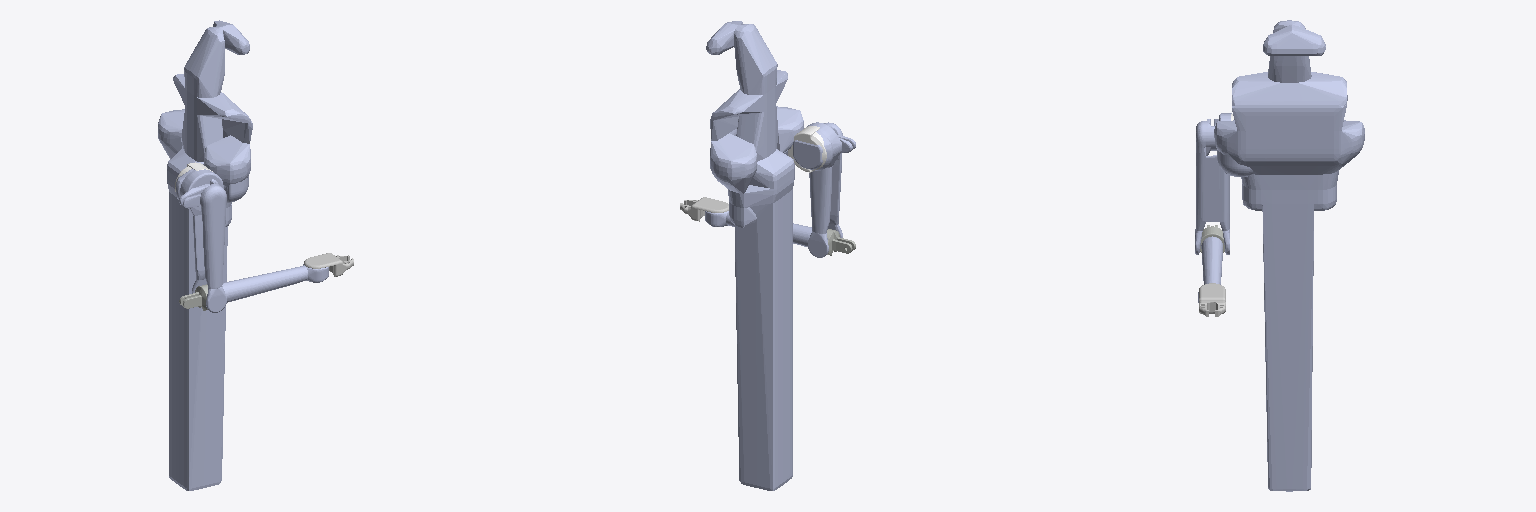
The robot description file, URDF, robot "RobotBimanualV3":
<?xml version="1.0" encoding="utf-8"?>
<!-- This URDF was automatically created by SolidWorks to URDF Exporter! Originally created by [author] ([email redacted]) 
     Commit Version: 1.6.0-4-g7f85cfe  Build Version: 1.6.7995.38578
     For more information, please see http://wiki.ros.org/sw_urdf_exporter -->
<robot
  name="RobotBimanualV3">
  <link
    name="base_link">
    <inertial>
      <origin
        xyz="0.010321 0.00065104 0.5185"
        rpy="0 0 0" />
      <mass
        value="35.545" />
      <inertia
        ixx="1.3259"
        ixy="-1.6443E-06"
        ixz="-0.00012106"
        iyy="1.3119"
        iyz="-1.547E-06"
        izz="0.026428" />
    </inertial>
    <visual>
      <origin
        xyz="0 0 0"
        rpy="0 0 0" />
      <geometry>
        <mesh
          filename="package://RobotBimanualV3/meshes/base_link_coacd.obj" />
      </geometry>
      <material
        name="">
        <color
          rgba="0.79216 0.81961 0.93333 1" />
      </material>
    </visual>
    <collision>
      <origin
        xyz="0 0 0"
        rpy="0 0 0" />
      <geometry>
        <mesh
          filename="package://RobotBimanualV3/meshes/base_link_coacd.obj" />
      </geometry>
    </collision>
  </link>
  <!-- <link
    name="link1">
    <inertial>
      <origin
        xyz="0.00277367 6.161E-05 0.05165334"
        rpy="0 0 0" />
      <mass
        value="0.706" />
      <inertia
        ixx="0.00074611"
        ixy="5.4E-07"
        ixz="5.3E-07"
        iyy="0.00054009"
        iyz="3.26E-06"
        izz="0.00050643" />
    </inertial>
    <visual>
      <origin
        xyz="0 0 0"
        rpy="0 0 0" />
      <geometry>
        <mesh
          filename="package://RobotBimanualV3/meshes/link1_coacd.obj" />
      </geometry>
      <material
        name="">
        <color
          rgba="1 1 1 1" />
      </material>
    </visual>
    <collision>
      <origin
        xyz="0 0 0"
        rpy="0 0 0" />
      <geometry>
        <mesh
          filename="package://RobotBimanualV3/meshes/link1_coacd.obj" />
      </geometry>
    </collision>
  </link>
  <joint
    name="joint1"
    type="revolute">
    <origin
      xyz="0.02 0.1037 0.8358"
      rpy="0 0 0" />
    <parent
      link="base_link" />
    <child
      link="link1" />
    <axis
      xyz="0 0 1" />
    <limit
      lower="0"
      upper="0"
      effort="0"
      velocity="0" />
  </joint>
  <link
    name="link2">
    <inertial>
      <origin
        xyz="-0.00124394 -5.732E-05 0.0545228"
        rpy="0 0 0" />
      <mass
        value="0.659" />
      <inertia
        ixx="0.00064807"
        ixy="8.3E-07"
        ixz="-4.6E-07"
        iyy="0.00045162"
        iyz="-1.01E-06"
        izz="0.00043422" />
    </inertial>
    <visual>
      <origin
        xyz="0 0 0"
        rpy="0 0 0" />
      <geometry>
        <mesh
          filename="package://RobotBimanualV3/meshes/link2_coacd.obj" />
      </geometry>
      <material
        name="">
        <color
          rgba="1 1 1 1" />
      </material>
    </visual>
    <collision>
      <origin
        xyz="0 0 0"
        rpy="0 0 0" />
      <geometry>
        <mesh
          filename="package://RobotBimanualV3/meshes/link2_coacd.obj" />
      </geometry>
    </collision>
  </link>
  <joint
    name="joint2"
    type="revolute">
    <origin
      xyz="-0.020519 0.0080718 0.0528"
      rpy="-1.5708 0 1.5708" />
    <parent
      link="link1" />
    <child
      link="link2" />
    <axis
      xyz="0 0 1" />
    <limit
      lower="0"
      upper="0"
      effort="0"
      velocity="0" />
  </joint>
  <link
    name="link3">
    <inertial>
      <origin
        xyz="-0.03505493 -0.006151 0.05438578"
        rpy="0 0 0" />
      <mass
        value="1.095" />
      <inertia
        ixx="0.00161847"
        ixy="0.00042205"
        ixz="-0.00104433"
        iyy="0.0066165"
        iyz="-0.0001917"
        izz="0.00653551" />
    </inertial>
    <visual>
      <origin
        xyz="0 0 0"
        rpy="0 0 0" />
      <geometry>
        <mesh
          filename="package://RobotBimanualV3/meshes/link3_coacd.obj" />
      </geometry>
      <material
        name="">
        <color
          rgba="0.79216 0.81961 0.93333 1" />
      </material>
    </visual>
    <collision>
      <origin
        xyz="0 0 0"
        rpy="0 0 0" />
      <geometry>
        <mesh
          filename="package://RobotBimanualV3/meshes/link3_coacd.obj" />
      </geometry>
    </collision>
  </link>
  <joint
    name="joint3"
    type="revolute">
    <origin
      xyz="0.014928 0 0.058031"
      rpy="-1.5708 0 -1.5708" />
    <parent
      link="link2" />
    <child
      link="link3" />
    <axis
      xyz="0 0 1" />
    <limit
      lower="0"
      upper="0"
      effort="0"
      velocity="0" />
  </joint>
  <link
    name="link4">
    <inertial>
      <origin
        xyz="-0.00914828 -0.00042727 -7.12E-06"
        rpy="0 0 0" />
      <mass
        value="0.268" />
      <inertia
        ixx="9.136E-05"
        ixy="7E-08"
        ixz="-2E-08"
        iyy="0.00013894"
        iyz="0"
        izz="0.00013031" />
    </inertial>
    <visual>
      <origin
        xyz="0 0 0"
        rpy="0 0 0" />
      <geometry>
        <mesh
          filename="package://RobotBimanualV3/meshes/link4_coacd.obj" />
      </geometry>
      <material
        name="">
        <color
          rgba="0.79216 0.81961 0.93333 1" />
      </material>
    </visual>
    <collision>
      <origin
        xyz="0 0 0"
        rpy="0 0 0" />
      <geometry>
        <mesh
          filename="package://RobotBimanualV3/meshes/link4_coacd.obj" />
      </geometry>
    </collision>
  </link>
  <joint
    name="joint4"
    type="revolute">
    <origin
      xyz="-0.25 0 0.08318"
      rpy="0 0 1.5708" />
    <parent
      link="link3" />
    <child
      link="link4" />
    <axis
      xyz="0 0 1" />
    <limit
      lower="0"
      upper="0"
      effort="0"
      velocity="0" />
  </joint>
  <link
    name="link5">
    <inertial>
      <origin
        xyz="-0.00077608 -1.282E-05 0.20828624"
        rpy="0 0 0" />
      <mass
        value="0.312" />
      <inertia
        ixx="0.00224953"
        ixy="-6E-08"
        ixz="-1.814E-05"
        iyy="0.00223143"
        iyz="-5.8E-07"
        izz="7.461E-05" />
    </inertial>
    <visual>
      <origin
        xyz="0 0 0"
        rpy="0 0 0" />
      <geometry>
        <mesh
          filename="package://RobotBimanualV3/meshes/link5_coacd.obj" />
      </geometry>
      <material
        name="">
        <color
          rgba="0.79216 0.81961 0.93333 1" />
      </material>
    </visual>
    <collision>
      <origin
        xyz="0 0 0"
        rpy="0 0 0" />
      <geometry>
        <mesh
          filename="package://RobotBimanualV3/meshes/link5_coacd.obj" />
      </geometry>
    </collision>
  </link>
  <joint
    name="joint5"
    type="revolute">
    <origin
      xyz="0.014 0 0"
      rpy="-1.5708 0 -1.5708" />
    <parent
      link="link4" />
    <child
      link="link5" />
    <axis
      xyz="0 0 1" />
    <limit
      lower="0"
      upper="0"
      effort="0"
      velocity="0" />
  </joint>
  <link
    name="link6">
    <inertial>
      <origin
        xyz="0 0.03647863 -0.00513212"
        rpy="0 0 0" />
      <mass
        value="0.069" />
      <inertia
        ixx="5.058E-05"
        ixy="0"
        ixz="0"
        iyy="2.639E-05"
        iyz="-9.98E-06"
        izz="6.138E-05" />
    </inertial>
    <visual>
      <origin
        xyz="0 0 0"
        rpy="0 0 0" />
      <geometry>
        <mesh
          filename="package://RobotBimanualV3/meshes/link6_coacd.obj" />
      </geometry>
      <material
        name="">
        <color
          rgba="0.82353 0.82353 0.82353 1" />
      </material>
    </visual>
    <collision>
      <origin
        xyz="0 0 0"
        rpy="0 0 0" />
      <geometry>
        <mesh
          filename="package://RobotBimanualV3/meshes/link6_coacd.obj" />
      </geometry>
    </collision>
  </link>
  <joint
    name="joint6"
    type="revolute">
    <origin
      xyz="0.01415 0 0.2633"
      rpy="1.5708 0 1.5708" />
    <parent
      link="link5" />
    <child
      link="link6" />
    <axis
      xyz="0 0 1" />
    <limit
      lower="0"
      upper="0"
      effort="0"
      velocity="0" />
  </joint>
  <link name="tool1"/>
  <joint name="tool1_frame" type="fixed">
    <origin xyz="0.0 0.0875 -0.01" rpy="0 0 0" />
    <parent link="link6" />
    <child link="tool1" />
  </joint> -->
  <link
    name="link7">
    <inertial>
      <origin
        xyz="0.00239406 -0.00016204 0.05155291"
        rpy="0 0 0" />
      <mass
        value="0.706" />
      <inertia
        ixx="0.00074592"
        ixy="-2.03E-06"
        ixz="-1.52E-06"
        iyy="0.00053798"
        iyz="-3.35E-06"
        izz="0.00050821" />
    </inertial>
    <visual>
      <origin
        xyz="0 0 0"
        rpy="0 0 0" />
      <geometry>
        <mesh
          filename="package://RobotBimanualV3/meshes/link7_coacd.obj" />
      </geometry>
      <material
        name="">
        <color
          rgba="0.79216 0.81961 0.93333 1" />
      </material>
    </visual>
    <collision>
      <origin
        xyz="0 0 0"
        rpy="0 0 0" />
      <geometry>
        <mesh
          filename="package://RobotBimanualV3/meshes/link7_coacd.obj" />
      </geometry>
    </collision>
  </link>
  <joint
    name="joint7"
    type="revolute">
    <origin
      xyz="0.02 -0.1037 0.8358"
      rpy="3.1416 0 0" />
    <parent
      link="base_link" />
    <child
      link="link7" />
    <axis
      xyz="0 0 1" />
    <limit
      lower="-1.57079633"
      upper="0.87266463"
      effort="4"
      velocity="2.00" />  
  </joint>
  <link
    name="link8">
    <inertial>
      <origin
        xyz="-0.00124394 7.606E-05 0.05454155"
        rpy="0 0 0" />
      <mass
        value="0.659" />
      <inertia
        ixx="0.00064811"
        ixy="-1.1E-06"
        ixz="-7.3E-07"
        iyy="0.0004522"
        iyz="1.03E-06"
        izz="0.00043369" />
    </inertial>
    <visual>
      <origin
        xyz="0 0 0"
        rpy="0 0 0" />
      <geometry>
        <mesh
          filename="package://RobotBimanualV3/meshes/link8_coacd.obj" />
      </geometry>
      <material
        name="">
        <color
          rgba="1 1 1 1" />
      </material>
    </visual>
    <collision>
      <origin
        xyz="0 0 0"
        rpy="0 0 0" />
      <geometry>
        <mesh
          filename="package://RobotBimanualV3/meshes/link8_coacd.obj" />
      </geometry>
    </collision>
  </link>
  <joint
    name="joint8"
    type="revolute">
    <origin
      xyz="-0.02205 0 0.0528"
      rpy="1.5708 0 -1.5708" />
    <parent
      link="link7" />
    <child
      link="link8" />
    <axis
      xyz="0 0 1" />
    <limit
      lower="-0.87266463"
      upper="0.87266463"
      effort="4"
      velocity="2.00" />
  </joint>
  <link
    name="link9">
    <inertial>
      <origin
        xyz="-0.03505563 0.00468094 0.05453087"
        rpy="0 0 0" />
      <mass
        value="1.095" />
      <inertia
        ixx="0.00161845"
        ixy="-0.00039365"
        ixz="-0.00105521"
        iyy="0.00662637"
        iyz="0.00018923"
        izz="0.00652496" />
    </inertial>
    <visual>
      <origin
        xyz="0 0 0"
        rpy="0 0 0" />
      <geometry>
        <mesh
          filename="package://RobotBimanualV3/meshes/link9_coacd.obj" />
      </geometry>
      <material
        name="">
        <color
          rgba="0.79216 0.81961 0.93333 1" />
      </material>
    </visual>
    <collision>
      <origin
        xyz="0 0 0"
        rpy="0 0 0" />
      <geometry>
        <mesh
          filename="package://RobotBimanualV3/meshes/link9_coacd.obj" />
      </geometry>
    </collision>
  </link>
  <joint
    name="joint9"
    type="revolute">
    <origin
      xyz="0.023 0 0.0565"
      rpy="1.5708 0 -1.5708" />
    <parent
      link="link8" />
    <child
      link="link9" />
    <axis
      xyz="0 0 1" />
    <limit
      lower="-0.87266463"
      upper="3.14159265"
      effort="2"
      velocity="2.00" />
  </joint>
  <link
    name="link10">
    <inertial>
      <origin
        xyz="-0.00914828 -0.00042727 7.13E-06"
        rpy="0 0 0" />
      <mass
        value="0.268" />
      <inertia
        ixx="9.136E-05"
        ixy="7E-08"
        ixz="2E-08"
        iyy="0.00013894"
        iyz="0"
        izz="0.00013031" />
    </inertial>
    <visual>
      <origin
        xyz="0 0 0"
        rpy="0 0 0" />
      <geometry>
        <mesh
          filename="package://RobotBimanualV3/meshes/link10_coacd.obj" />
      </geometry>
      <material
        name="">
        <color
          rgba="0.75686 0.76863 0.75294 1" />
      </material>
    </visual>
    <collision>
      <origin
        xyz="0 0 0"
        rpy="0 0 0" />
      <geometry>
        <mesh
          filename="package://RobotBimanualV3/meshes/link10_coacd.obj" />
      </geometry>
    </collision>
  </link>
  <joint
    name="joint10"
    type="revolute">
    <origin
      xyz="-0.25 0 0.08318"
      rpy="3.1416 0 -1.5708" />
    <parent
      link="link9" />
    <child
      link="link10" />
    <axis
      xyz="0 0 -1" />
    <limit
      lower="-1.30899694"
      upper="0.78539816"
      effort="2"
      velocity="2.00" />
  </joint>
  <link
    name="link11">
    <inertial>
      <origin
        xyz="-0.00590045 -0.00568974 0.20812634"
        rpy="0 0 0" />
      <mass
        value="0.285" />
      <inertia
        ixx="0.0022472"
        ixy="5.1E-07"
        ixz="-7.155E-05"
        iyy="0.00222987"
        iyz="-6.013E-05"
        izz="7.85E-05" />
    </inertial>
    <visual>
      <origin
        xyz="0 0 0"
        rpy="0 0 0" />
      <geometry>
        <mesh
          filename="package://RobotBimanualV3/meshes/link11_coacd.obj" />
      </geometry>
      <material
        name="">
        <color
          rgba="0.79216 0.81961 0.93333 1" />
      </material>
    </visual>
    <collision>
      <origin
        xyz="0 0 0"
        rpy="0 0 0" />
      <geometry>
        <mesh
          filename="package://RobotBimanualV3/meshes/link11_coacd.obj" />
      </geometry>
    </collision>
  </link>
  <joint
    name="joint11"
    type="revolute">
    <origin
      xyz="0.014 0 0"
      rpy="-1.5708 0 -1.5708" />
    <parent
      link="link10" />
    <child
      link="link11" />
    <axis
      xyz="0 0 1" />
    <limit
      lower="-3.66519143"
      upper="1.91986218"
      effort="1"
      velocity="2.00" />
  </joint>
  <link
    name="link12">
    <inertial>
      <origin
        xyz="0 -0.03647862 -0.00513209"
        rpy="0 0 0" />
      <mass
        value="0.069" />
      <inertia
        ixx="5.058E-05"
        ixy="0"
        ixz="0"
        iyy="2.639E-05"
        iyz="-9.98E-06"
        izz="6.138E-05" />
    </inertial>
    <visual>
      <origin
        xyz="0 0 0"
        rpy="0 0 0" />
      <geometry>
        <mesh
          filename="package://RobotBimanualV3/meshes/link12_coacd.obj" />
      </geometry>
      <material
        name="">
        <color
          rgba="0.82353 0.82353 0.82353 1" />
      </material>
    </visual>
    <collision>
      <origin
        xyz="0 0 0"
        rpy="0 0 0" />
      <geometry>
        <mesh
          filename="package://RobotBimanualV3/meshes/link12_coacd.obj" />
      </geometry>
    </collision>
  </link>
  <joint
    name="joint12"
    type="revolute">
    <origin
      xyz="0.01415 0 0.2633"
      rpy="1.5708 0 1.5708" />
    <parent
      link="link11" />
    <child
      link="link12" />
    <axis
      xyz="0 0 1" />
    <limit
      lower="-2.0944"
      upper="2.0944"
      effort="1"
      velocity="2.00" />
  </joint>
  <link name="tool2">
    <!-- <visual>
      <origin
        xyz="0 0 0"
        rpy="0 0 0" />
      <geometry>
        <cylinder length="0.1" radius="0.02" />
      </geometry>
      <material
        name="">
        <color
          rgba="1 1 1 1" />
      </material>
    </visual>
    <collision>
      <origin
        xyz="0 0 0"
        rpy="0 0 0" />
      <geometry>
        <cylinder length="0.1" radius="0.02" />
      </geometry>
    </collision> -->
    <inertial>
      <origin
        xyz="0 0 0"
        rpy="0 0 0" />
      <!-- <mass
        value="1.5" /> -->
      <mass
        value="0" />
      <inertia
        ixx="0"
        ixy="0"
        ixz="0"
        iyy="0"
        iyz="0"
        izz="0" />
    </inertial>
  </link>
  <joint name="tool2_frame" type="fixed">
    <origin xyz="0.0 0.0875 -0.01" rpy="0 0 0" />
    <parent link="link12" />
    <child link="tool2" />
  </joint>
</robot>

--- What the picture shows (computed from the rendered views, not written in the file) ---
The picture shows the robot from 3 angles, left to right: view 1: azimuth 30°, elevation 25°; view 2: azimuth 150°, elevation 25°; view 3: azimuth 270°, elevation 25°; orthographic projection.
Robot: RobotBimanualV3 — 8 links, 7 joints (6 revolute, 1 fixed); root link base_link; default pose: all joints at 0.
Links seen in each view (by area): view 1: base_link, link9, link11, link12; view 2: base_link, link9, link12, link11, link8; view 3: base_link, link9, link11, link12.
Link boxes in pixels (left/top/right/bottom): base_link: left=158, top=20, right=252, bottom=490; link9: left=176, top=169, right=226, bottom=312; link11: left=222, top=264, right=328, bottom=302; link12: left=304, top=253, right=353, bottom=276; base_link: left=706, top=21, right=803, bottom=490; link9: left=793, top=122, right=855, bottom=257; link12: left=680, top=197, right=728, bottom=221; link11: left=705, top=211, right=811, bottom=246; link8: left=788, top=126, right=826, bottom=172; base_link: left=1214, top=20, right=1364, bottom=491; link9: left=1195, top=113, right=1231, bottom=254; link11: left=1198, top=236, right=1222, bottom=302; link12: left=1199, top=283, right=1225, bottom=316.
Size in the robot's own frame: 0.4399 by 0.3604 by 1.11 metres.
Meshes: 7 distinct files referenced, 7 mesh visuals loaded (7 OBJ).